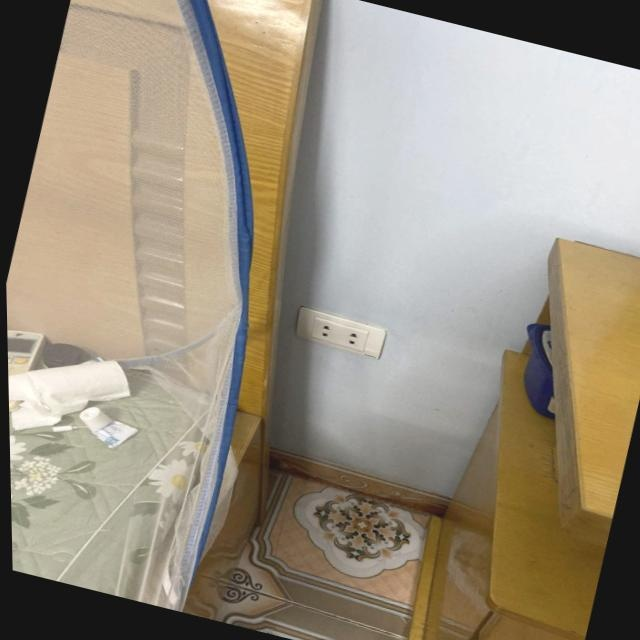outlet: (291, 304, 388, 360)
